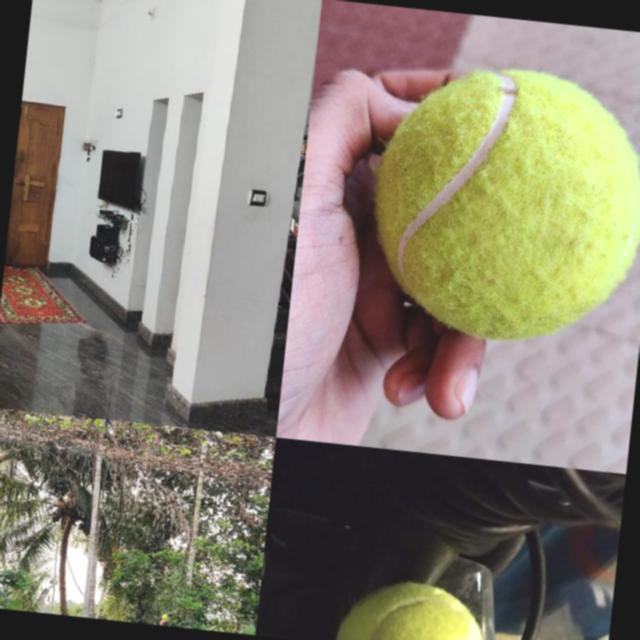Tennis Ball: (359, 52, 640, 355), (331, 572, 492, 640), (161, 614, 166, 620)
